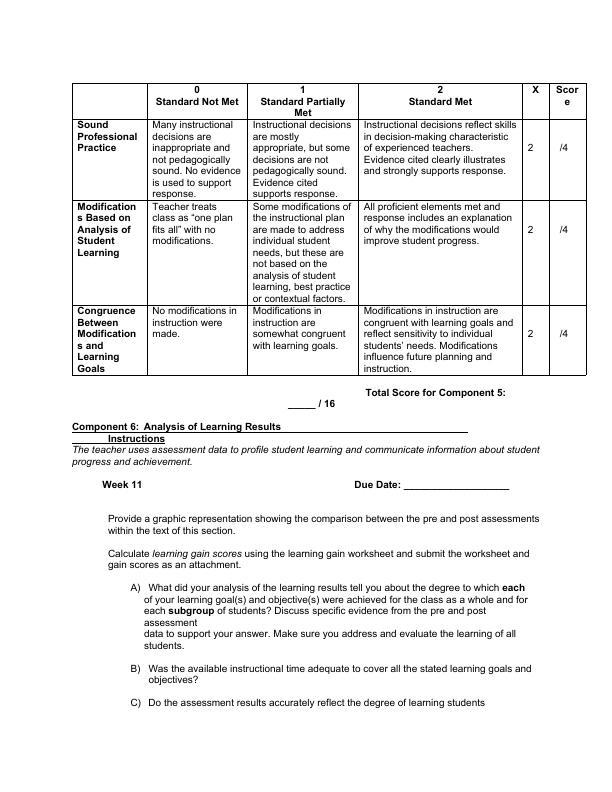input: (404, 478, 513, 496), (285, 396, 316, 412)
table: (68, 76, 590, 384)
text: (128, 579, 544, 653), (103, 510, 544, 539), (127, 660, 544, 690), (103, 546, 539, 573), (71, 445, 549, 469), (125, 694, 490, 716), (70, 421, 284, 435), (360, 385, 513, 400), (352, 477, 402, 493), (95, 478, 147, 492), (322, 394, 340, 410)
